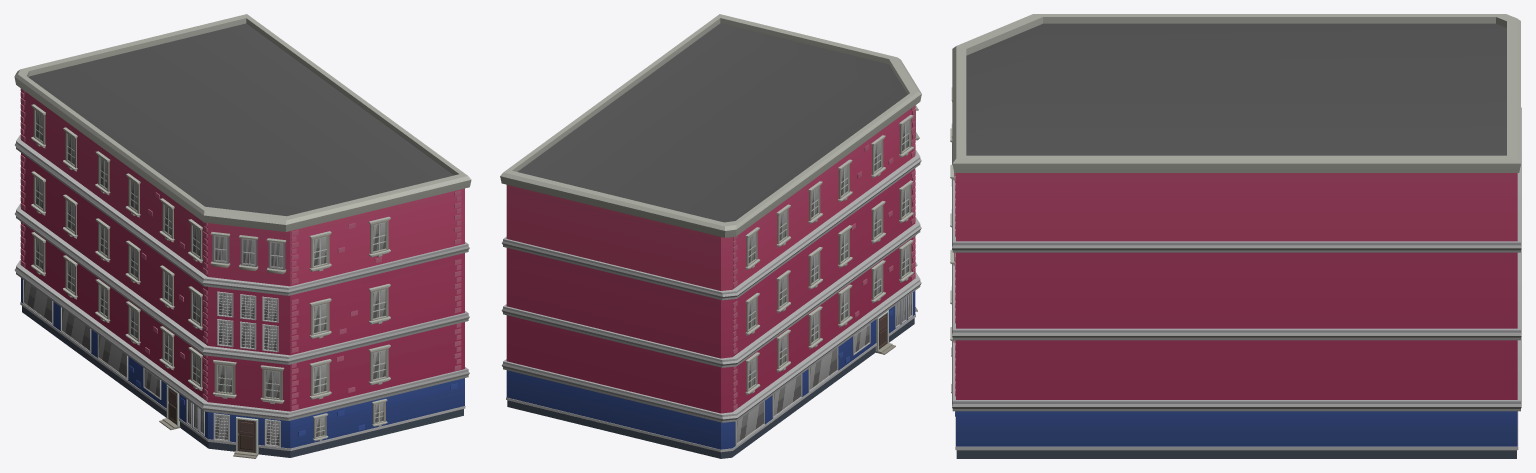
The model's file is Building_25_9_C.fbx.
3 views of the same model, side by side, from view 1: azimuth 30°, elevation 25°; view 2: azimuth 150°, elevation 25°; view 3: azimuth 270°, elevation 25° (orthographic). The views are drawn at different scales.
Parts seen in each view (by area): view 1: Building_25_9_C; view 2: Building_25_9_C; view 3: Building_25_9_C.
Boxes of the visible parts, x1,y1,x2,y2 form: Building_25_9_C: (14, 14, 471, 458); Building_25_9_C: (500, 14, 921, 458); Building_25_9_C: (950, 14, 1521, 458).
Bounding box in the file's own units: 1683 × 1596 × 2729.
